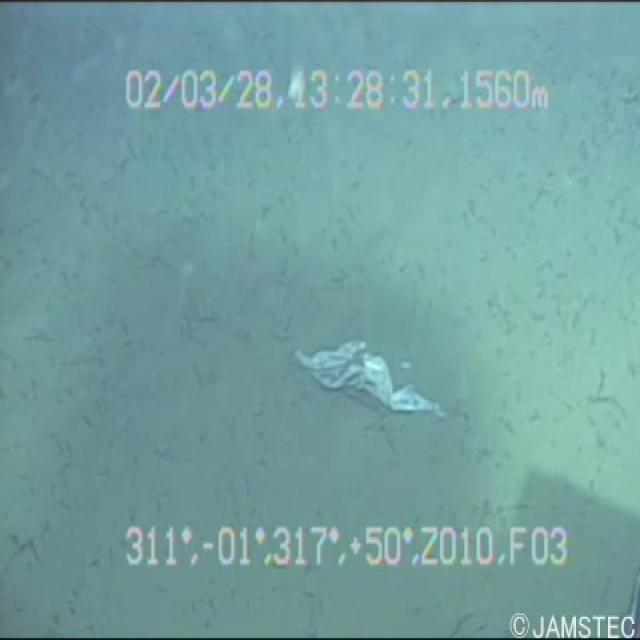plastic: (284, 302, 477, 443)
